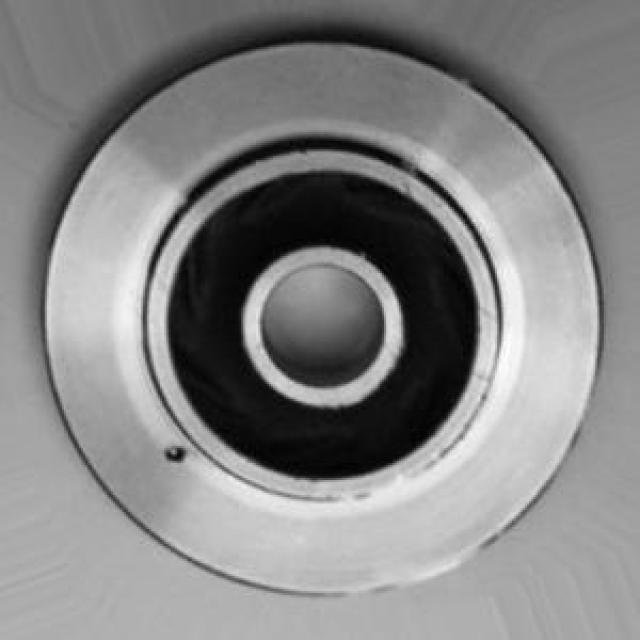Defect: (147, 442, 202, 470)
